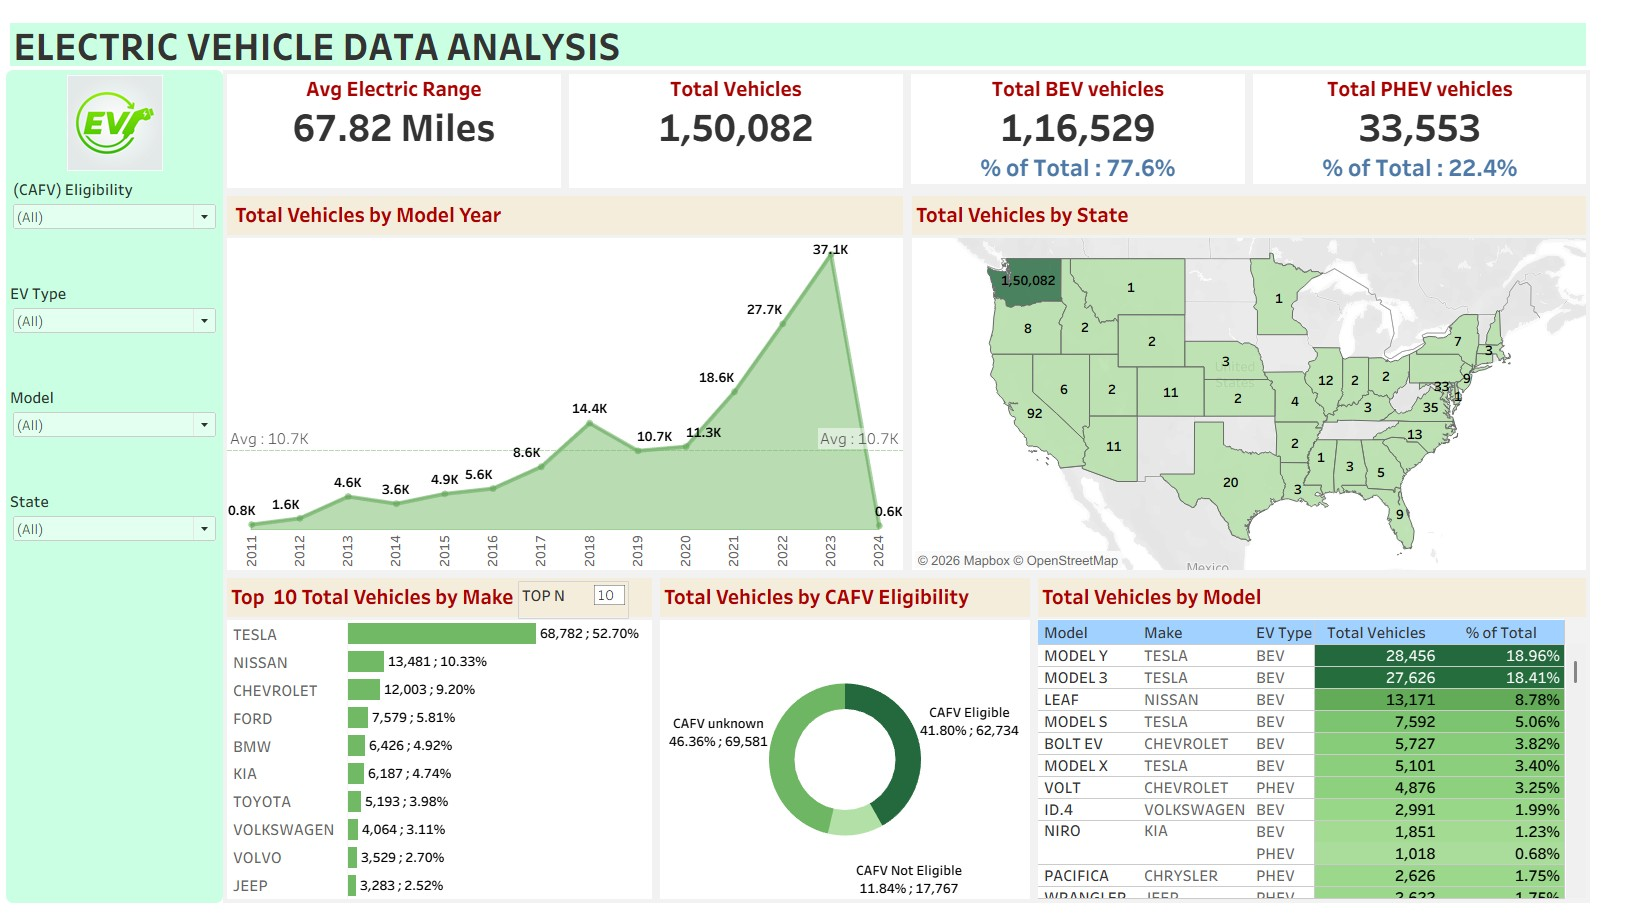

The page's visual inventory and layout, read from the dashboard file:
{"tool":"tableau","page":{"name":"Dashboard 1","canvas":[1600,900],"ordinal":0},"visuals":[{"type":"title","box":[8,8,1584,51]},{"type":"image","param":"Image/ev icon.jpg","box":[8,59,217,105]},{"type":"worksheet","title":"Avg electric range","mark":"Automatic","box":[225,59,342,122]},{"type":"worksheet","title":"Total Vehicles","mark":"Automatic","box":[567,59,342,122]},{"type":"worksheet","title":"Total BEV vehicles  ","mark":"Automatic","box":[909,59,342,122]},{"type":"worksheet","title":"Total PHEV vehicles ","mark":"Automatic","box":[1251,59,341,122]},{"type":"filter","title":" Total Vehicles by Model Year","param":"[federated.1ung45s0gjmm6y12fjz7c0u8jzna].[none:Clean Alternative Fuel Vehicle (C","box":[8,164,217,104]},{"type":"worksheet","title":" Total Vehicles by Model Year","mark":"Area","rows":["Calculation_2003336142114816","Calculation_2003336142114816"],"cols":["Model Year"],"box":[225,181,684.5,382]},{"type":"worksheet","title":"Total Vehicles by State","mark":"Multipolygon","box":[909.5,181,682.5,382]},{"type":"filter","title":" Total Vehicles by Model Year","param":"[federated.1ung45s0gjmm6y12fjz7c0u8jzna].[none:Electric Vehicle Type:nk]","box":[8,268,217,104]},{"type":"filter","title":" Total Vehicles by Model Year","param":"[federated.1ung45s0gjmm6y12fjz7c0u8jzna].[none:Model:nk]","box":[8,372,217,104]},{"type":"filter","title":" Total Vehicles by Model Year","param":"[federated.1ung45s0gjmm6y12fjz7c0u8jzna].[none:State:nk]","box":[8,476,217,104]},{"type":"worksheet","title":"Top 10 Total Vehicles by Make","mark":"Automatic","rows":["Make"],"cols":["Calculation_2003336142114816"],"box":[225,563,433,329]},{"type":"worksheet","title":"Total Vehicles by CAFV Eligibility","mark":"Pie","rows":["Calculation_2003336233082892","Calculation_2003336233082892"],"box":[658,563,378,329]},{"type":"worksheet","title":"Total Vehicles by Model","mark":"Square","rows":["Model","Make","Electric Vehicle Type"],"box":[1036,563,556,329]},{"type":"parameter","param":"[Parameters].[Parameter 2003336190545930]","box":[520,570,111,38]},{"type":"blank","box":[8,580,217,104]},{"type":"blank","box":[8,684,217,104]},{"type":"blank","box":[8,788,217,104]}]}

Visuals, with their boxes in screenshot pixels (x1, y1, x2, y2), scaled from the page's 1600x900 canvas onto the 1636x917 screenshot:
title: (x1=8, y1=8, x2=1628, y2=60)
image: (x1=8, y1=60, x2=230, y2=167)
"Avg electric range" worksheet: (x1=230, y1=60, x2=580, y2=184)
"Total Vehicles" worksheet: (x1=580, y1=60, x2=929, y2=184)
"Total BEV vehicles  " worksheet: (x1=929, y1=60, x2=1279, y2=184)
"Total PHEV vehicles " worksheet: (x1=1279, y1=60, x2=1628, y2=184)
" Total Vehicles by Model Year" filter: (x1=8, y1=167, x2=230, y2=273)
" Total Vehicles by Model Year" worksheet (Area marks): (x1=230, y1=184, x2=930, y2=574)
"Total Vehicles by State" worksheet (Multipolygon marks): (x1=930, y1=184, x2=1628, y2=574)
" Total Vehicles by Model Year" filter: (x1=8, y1=273, x2=230, y2=379)
" Total Vehicles by Model Year" filter: (x1=8, y1=379, x2=230, y2=485)
" Total Vehicles by Model Year" filter: (x1=8, y1=485, x2=230, y2=591)
"Top 10 Total Vehicles by Make" worksheet: (x1=230, y1=574, x2=673, y2=909)
"Total Vehicles by CAFV Eligibility" worksheet (Pie marks): (x1=673, y1=574, x2=1059, y2=909)
"Total Vehicles by Model" worksheet (Square marks): (x1=1059, y1=574, x2=1628, y2=909)
parameter: (x1=532, y1=581, x2=645, y2=619)
blank: (x1=8, y1=591, x2=230, y2=697)
blank: (x1=8, y1=697, x2=230, y2=803)
blank: (x1=8, y1=803, x2=230, y2=909)
